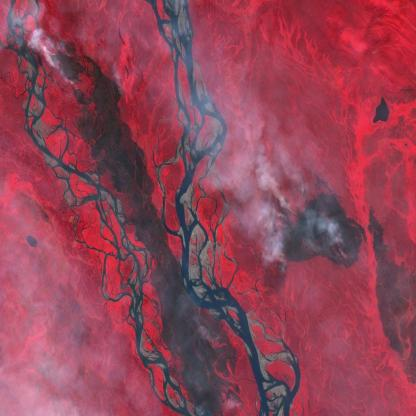fire: (267, 167, 349, 277), (38, 30, 87, 91)
